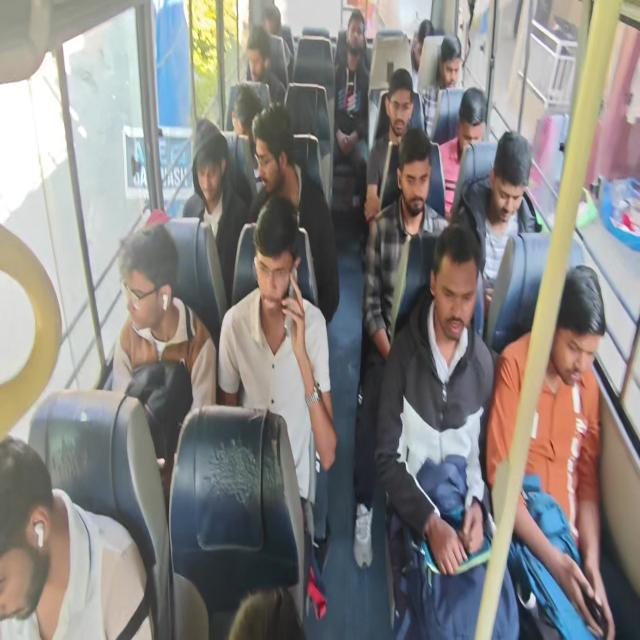person: (117, 234, 181, 338), (553, 270, 598, 388), (434, 256, 482, 349), (253, 224, 295, 322), (493, 134, 529, 230), (256, 113, 291, 189), (198, 123, 228, 203), (399, 138, 427, 210), (233, 92, 264, 148), (458, 94, 486, 154), (244, 37, 274, 89), (258, 5, 286, 50), (382, 84, 411, 126), (440, 41, 463, 92), (415, 19, 435, 70), (343, 12, 365, 48)
